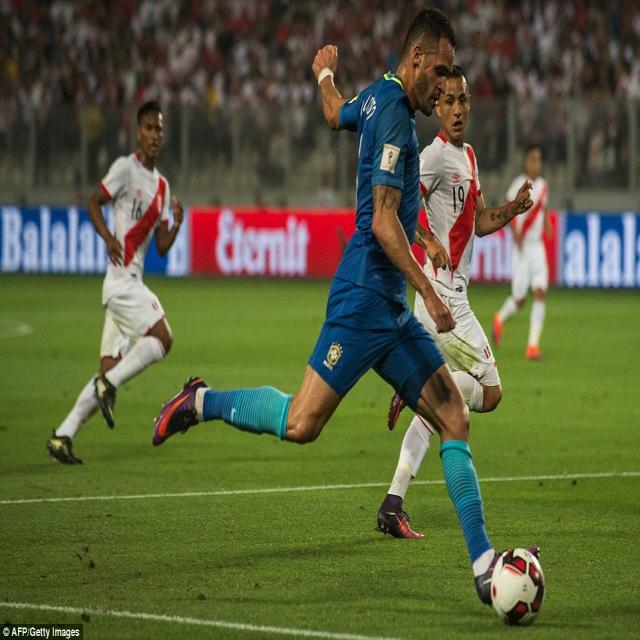body: (145, 1, 545, 610), (0, 0, 639, 208), (375, 60, 537, 545), (42, 95, 186, 469), (491, 141, 553, 362)
